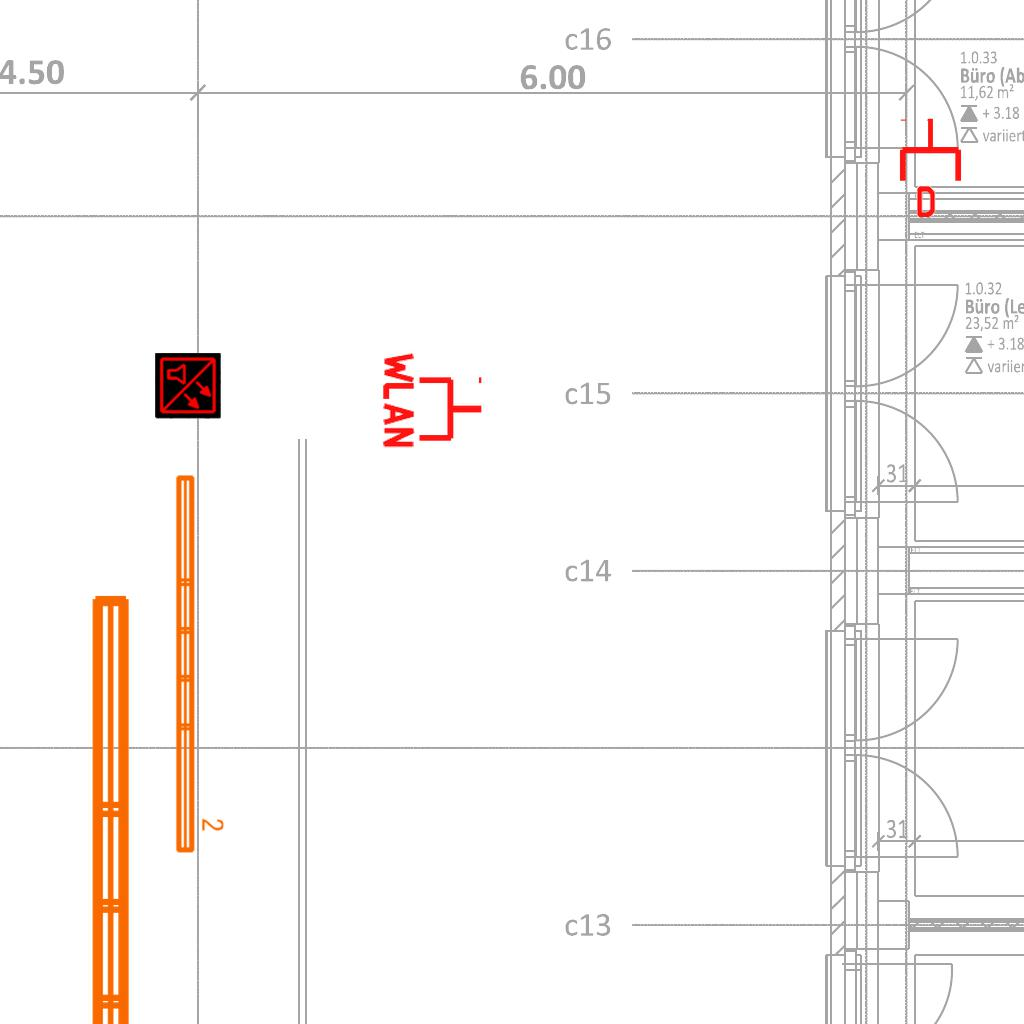Ambulanz_Pendelleuchte_LED: (80, 585, 192, 1024), (170, 470, 226, 857)
Datenanschluss_einfach: (896, 117, 965, 217)
OKW_Multisensormelder_(Kombination_optischer_Rauch-Kahlenmonoxid_Waerme-Melder): (155, 353, 221, 419)
WLAN: (381, 348, 486, 452)
